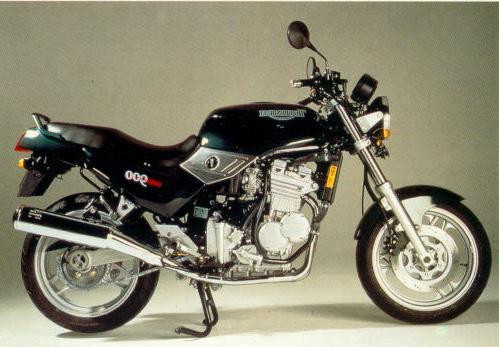motorcycle: (10, 14, 499, 342)
